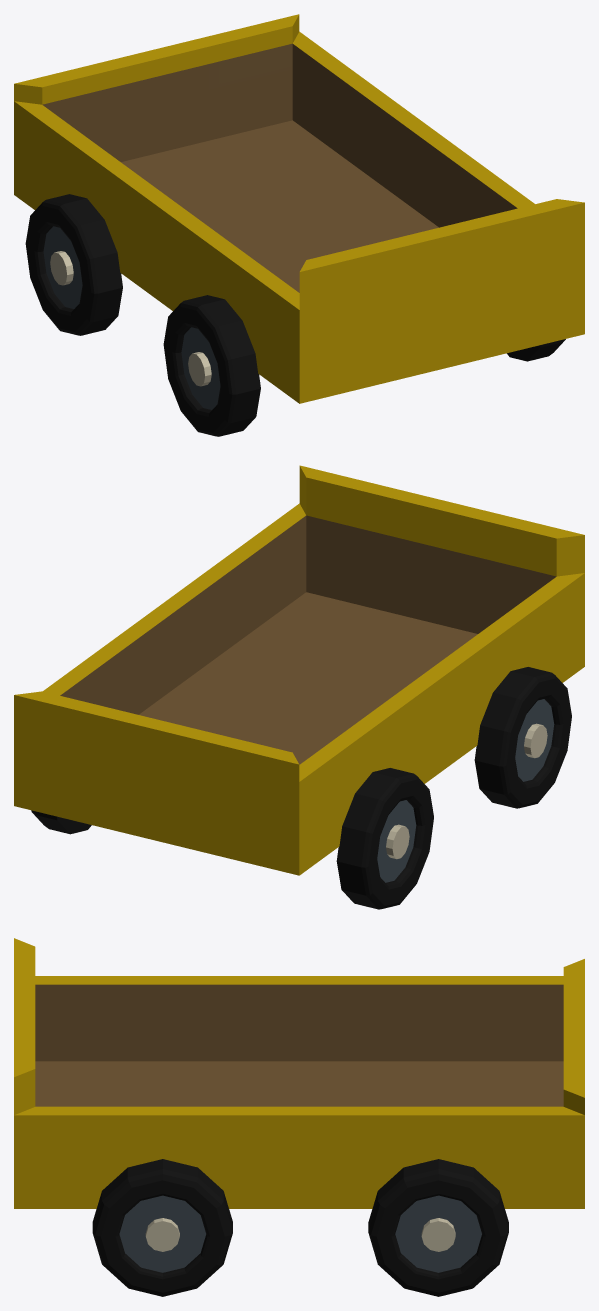
File: card.fbx
3 views of the same model, one above another, from view 1: azimuth 30°, elevation 25°; view 2: azimuth 150°, elevation 25°; view 3: azimuth 270°, elevation 25° (orthographic).
Visible parts, largest first — view 1: Card; view 2: Card; view 3: Card.
Part boxes in pixels (box(x1,y1,x2,y2)): Card: box(14, 14, 584, 436); Card: box(14, 465, 584, 909); Card: box(14, 938, 584, 1296).
Size of the model in its own units: 240 by 140 by 347.
